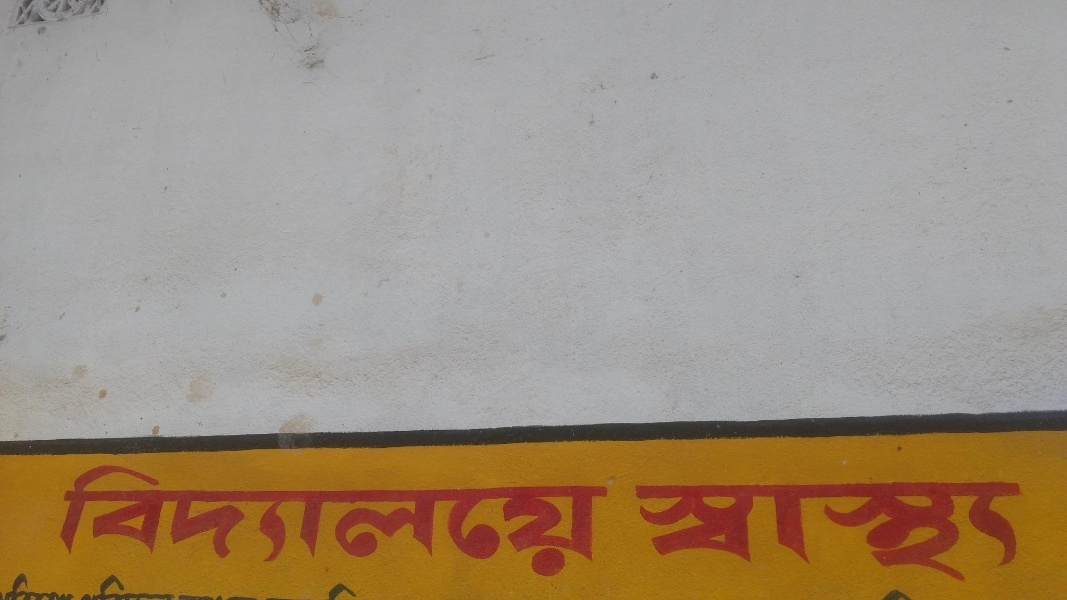text: (65, 453, 80, 580), (81, 453, 96, 580), (97, 453, 112, 580), (113, 453, 128, 580), (129, 453, 144, 580), (145, 453, 160, 580), (161, 453, 176, 580), (177, 453, 192, 580), (193, 453, 208, 580), (209, 453, 224, 580), (225, 453, 240, 580), (241, 453, 256, 580), (257, 453, 272, 580), (273, 453, 288, 580), (289, 453, 304, 580), (305, 453, 320, 580), (321, 453, 336, 580), (337, 453, 352, 580), (353, 453, 368, 580), (369, 453, 384, 580), (385, 453, 400, 580), (401, 453, 416, 580), (417, 453, 432, 580), (433, 453, 448, 580), (449, 453, 464, 580), (465, 453, 480, 580), (481, 453, 496, 580), (497, 453, 512, 580), (513, 453, 528, 580), (529, 453, 544, 580), (545, 453, 560, 580), (561, 453, 576, 580), (577, 453, 592, 580), (593, 453, 608, 580), (641, 472, 656, 586), (657, 472, 672, 586), (673, 472, 688, 586), (689, 472, 704, 586), (705, 472, 720, 586), (721, 472, 736, 586), (737, 472, 752, 586), (753, 472, 768, 586), (769, 472, 784, 586), (785, 472, 800, 586), (801, 472, 816, 586), (817, 472, 832, 586), (833, 472, 848, 586), (849, 472, 864, 586), (865, 472, 880, 586), (881, 472, 896, 586), (897, 472, 912, 586), (913, 472, 928, 586), (929, 472, 944, 586), (945, 472, 960, 586), (961, 472, 976, 586), (977, 472, 992, 586), (993, 472, 1008, 586), (1009, 472, 1024, 586), (58, 453, 64, 580), (634, 472, 640, 586), (17, 573, 32, 599), (33, 573, 48, 599), (49, 573, 64, 599), (609, 453, 612, 580), (97, 574, 112, 599), (113, 574, 128, 599), (129, 574, 144, 599), (145, 574, 160, 599), (161, 574, 176, 599), (65, 573, 79, 599), (4, 573, 16, 599), (85, 574, 96, 599), (337, 584, 352, 599), (325, 584, 336, 599), (881, 589, 896, 599), (897, 589, 912, 599), (193, 591, 208, 599), (209, 591, 224, 599), (225, 591, 240, 599), (241, 591, 256, 599), (257, 591, 272, 599), (1025, 472, 1026, 586), (179, 591, 192, 599), (273, 591, 283, 599), (177, 574, 180, 599), (353, 584, 358, 599), (913, 589, 914, 599)
